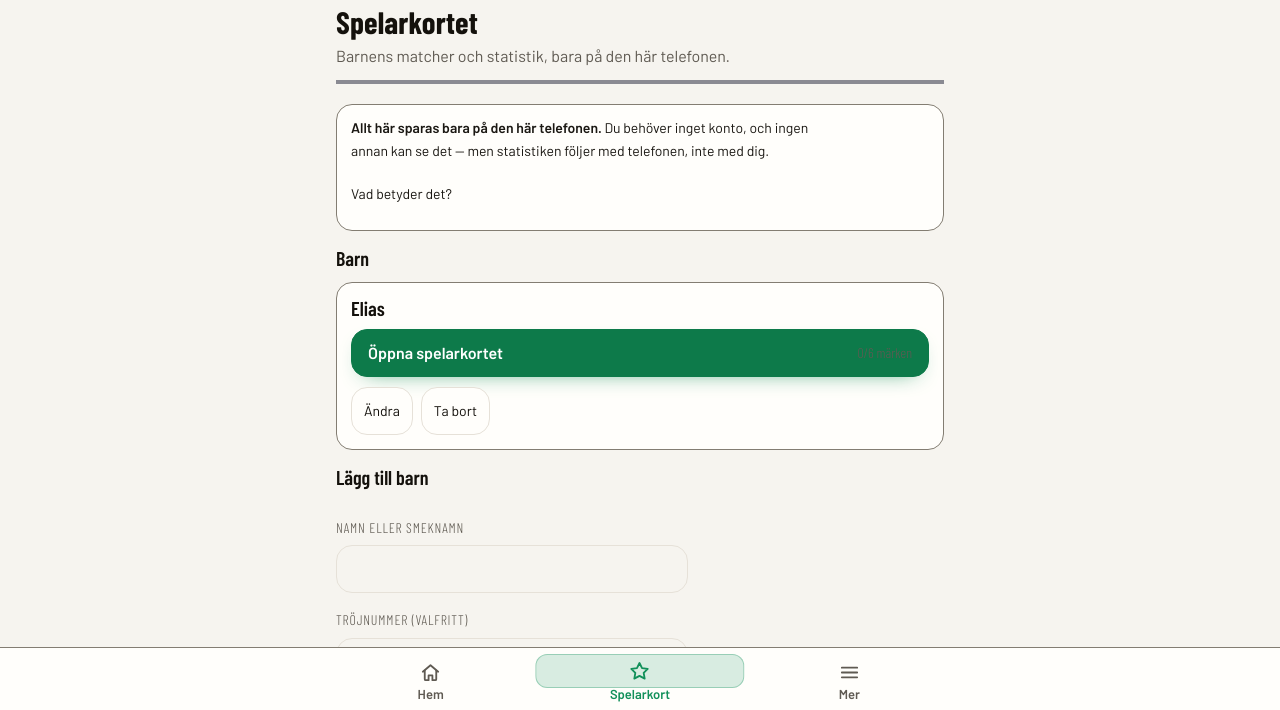
ändra barn › sparar ändringen
Click the button named "Ändra Elias" at (382, 411), box 351,387 -> 413,435
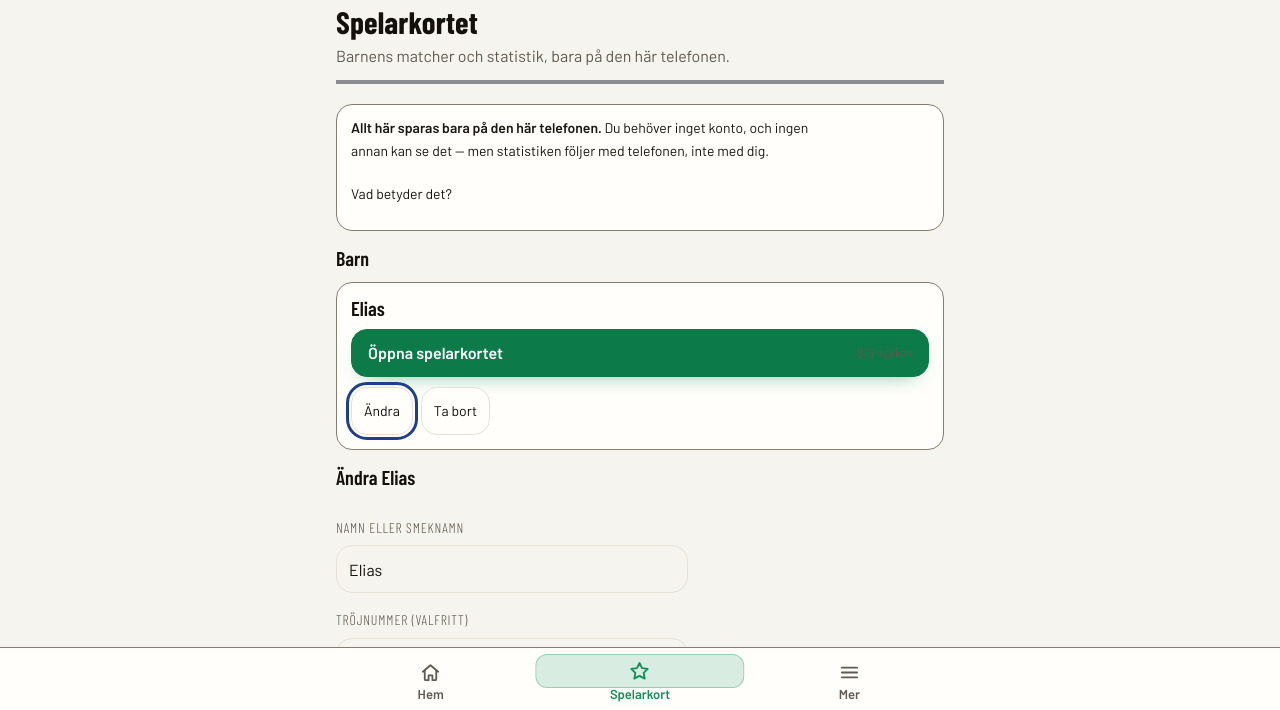
Replace the text in the field labelled "Namn eller smeknamn" with "Lillen" at (512, 569), box 336,545 -> 688,593
(page scrolled)
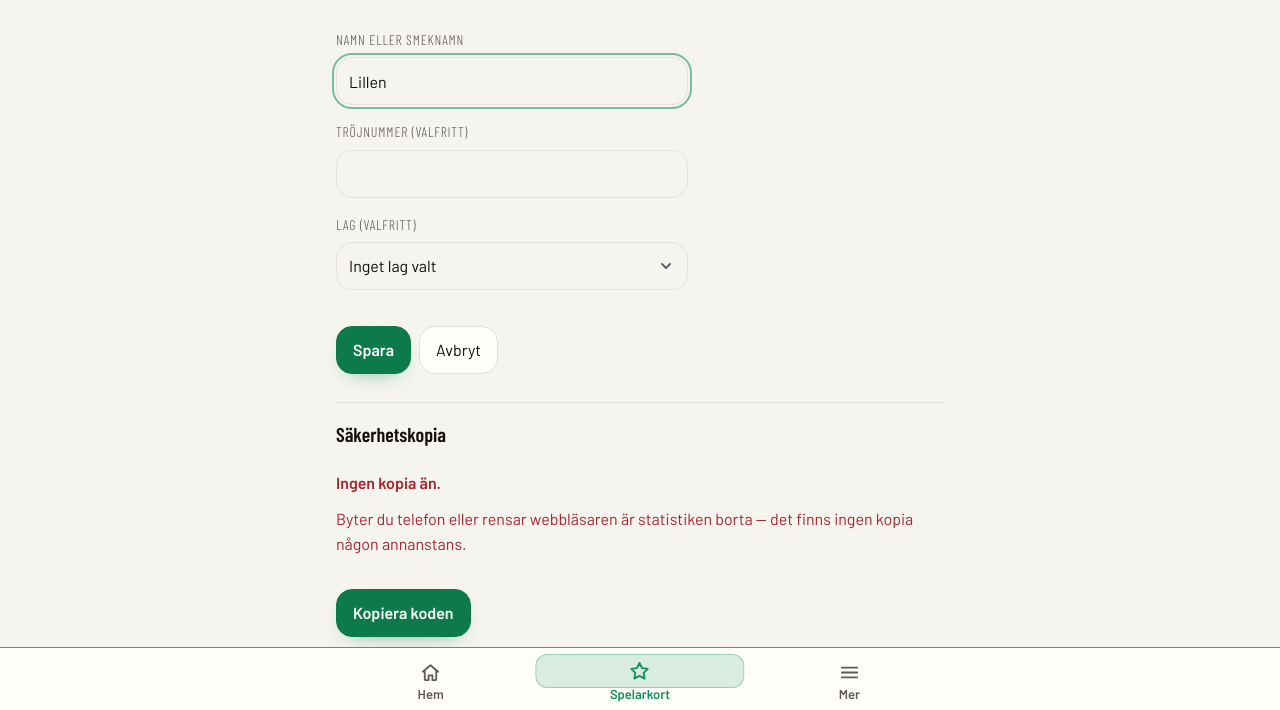
Click the button "Spara" at (374, 350), box 336,326 -> 411,374
(page scrolled)
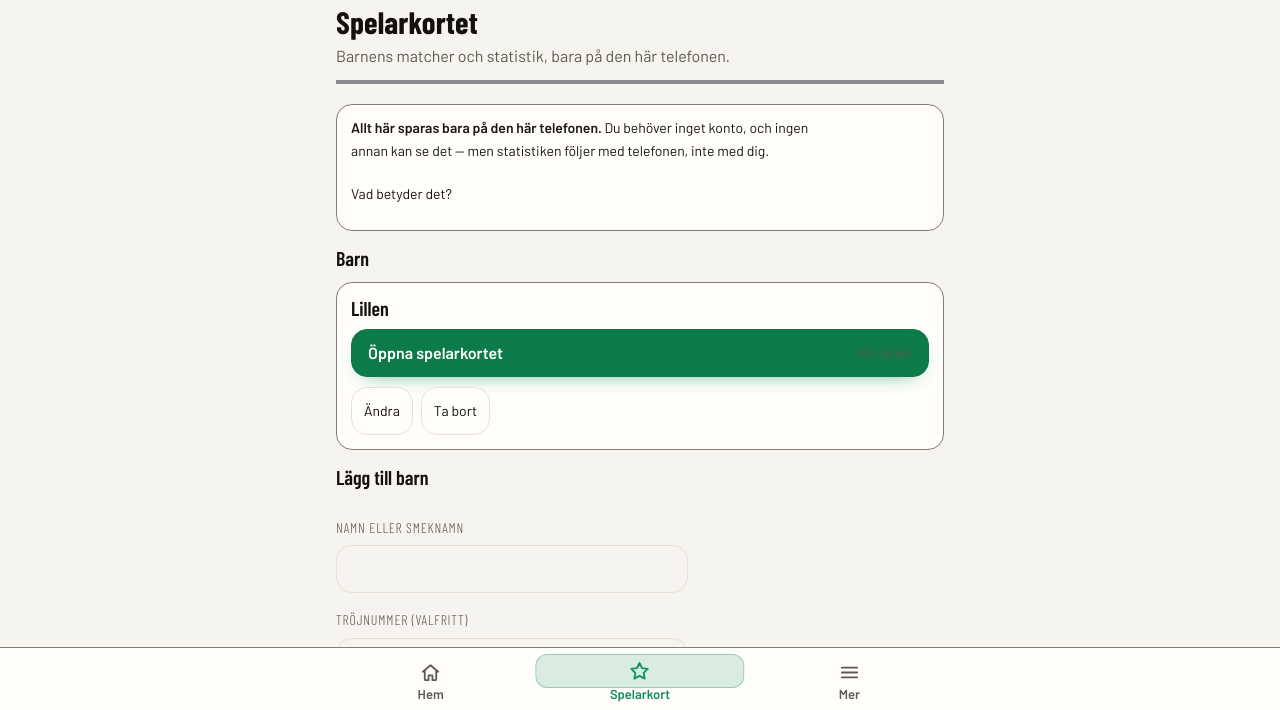
Check: the text "Lillen" is shown, box 351,297 -> 389,319
